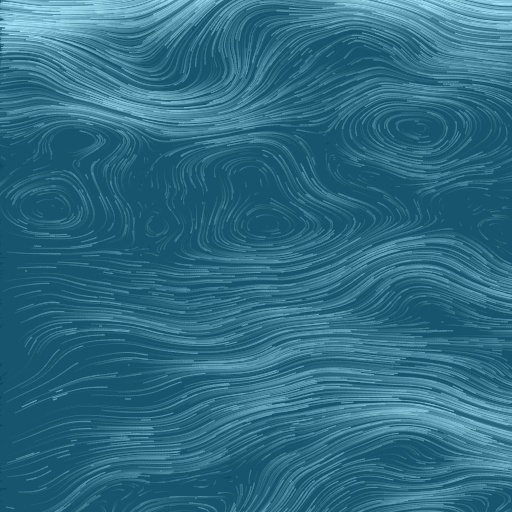eddy: (203, 145, 323, 255), (5, 120, 107, 238), (358, 96, 464, 163)
